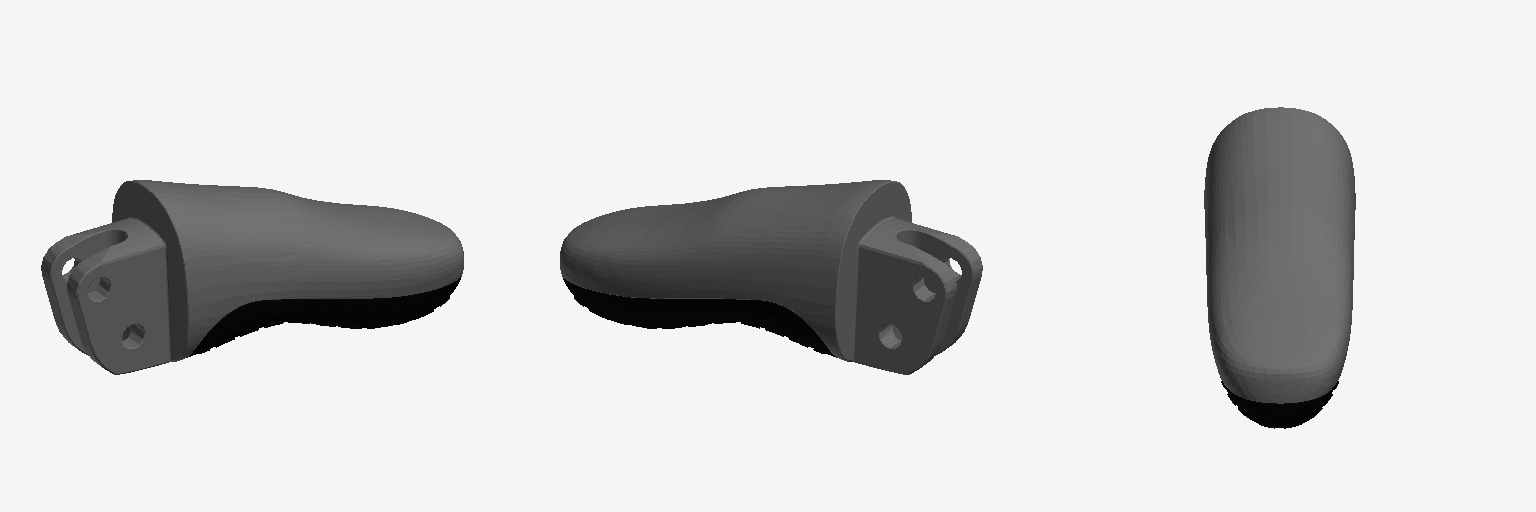
File: R_pinky_intermediate_link.obj
3 renders of one model, left to right at view 1: azimuth 30°, elevation 25°; view 2: azimuth 150°, elevation 25°; view 3: azimuth 270°, elevation 25°, orthographic.
Parts seen in each view (by area): view 1: R_pinky_intermediate_link; view 2: R_pinky_intermediate_link; view 3: R_pinky_intermediate_link.
Boxes of the visible parts, x1=… form: R_pinky_intermediate_link: x1=41, y1=180, x2=463, y2=374; R_pinky_intermediate_link: x1=560, y1=180, x2=982, y2=374; R_pinky_intermediate_link: x1=1204, y1=107, x2=1355, y2=428.
Size of the model in its own units: 0.0437 by 0.0201 by 0.0145.